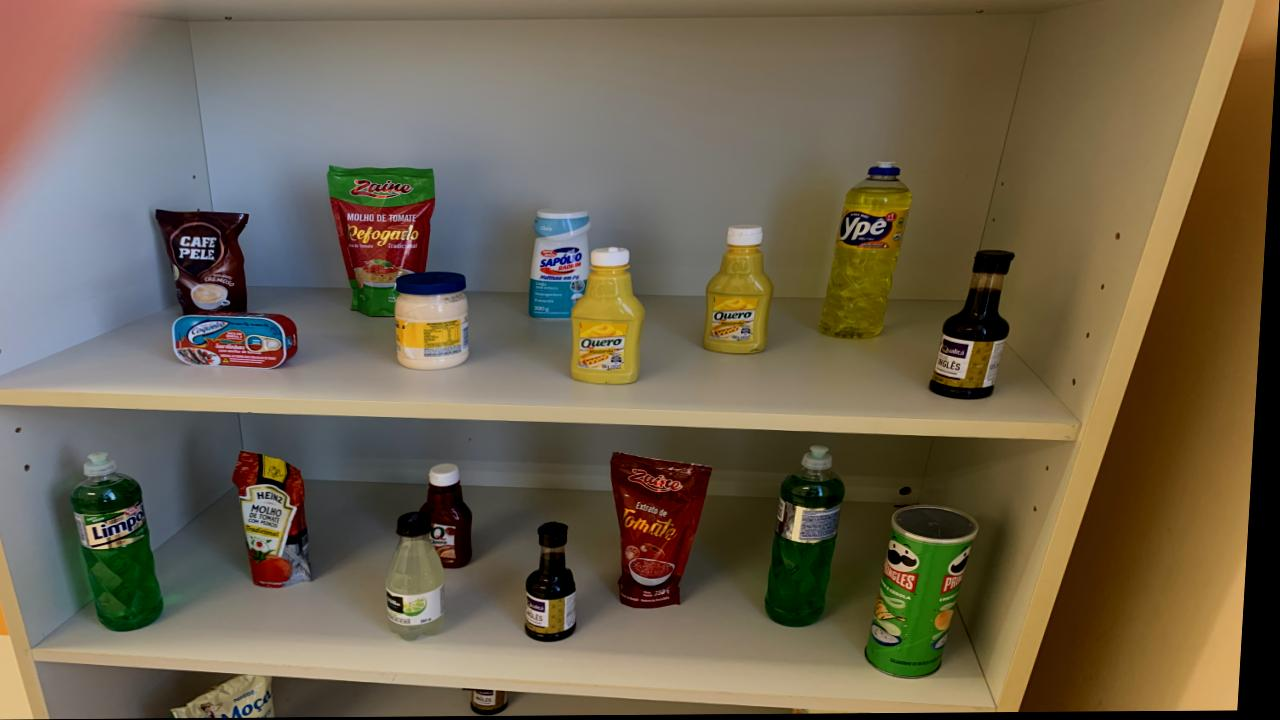Cleaner-Cleanup_Items: (533, 210, 594, 319)
Coffee-Pantry_Items: (157, 209, 252, 316)
Detergent-Cleanup_Items: (77, 453, 172, 631), (824, 164, 915, 340), (774, 447, 852, 627)
English_Sauce-Pantry_Items: (934, 251, 1018, 401), (533, 523, 584, 643), (479, 691, 517, 715)
Flakes-Snacks: (179, 675, 284, 719)
Ketchup-Pantry_Items: (426, 464, 479, 569)
Mayonnaise-Pantry_Items: (398, 273, 474, 371)
Mustard-Pantry_Items: (575, 248, 648, 385), (709, 226, 777, 356)
Pringles-Snacks: (874, 506, 985, 681)
Soda-Drinks: (392, 513, 452, 641)
Tomato_Sauce-Pantry_Items: (329, 167, 438, 318), (615, 454, 718, 609), (238, 452, 318, 589)
Tuna_Can-Pantry_Items: (176, 313, 302, 370)
